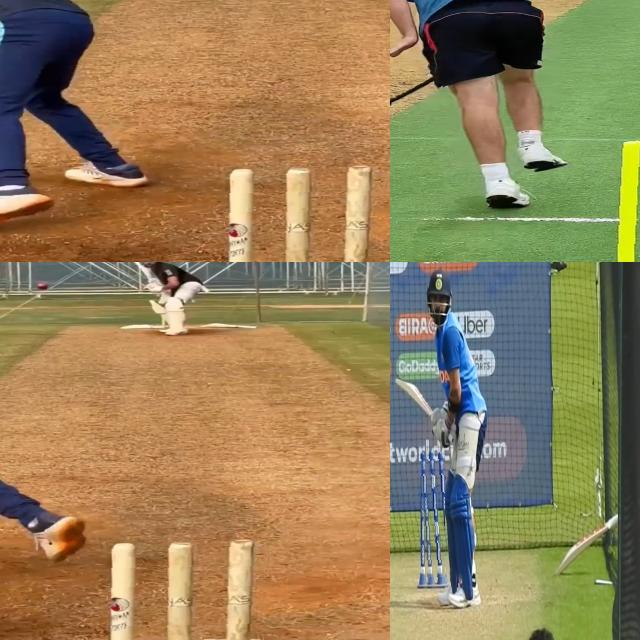Cricket ball: (108, 539, 265, 640), (225, 164, 382, 262), (36, 283, 51, 290)
Stumps: (419, 450, 445, 590)
